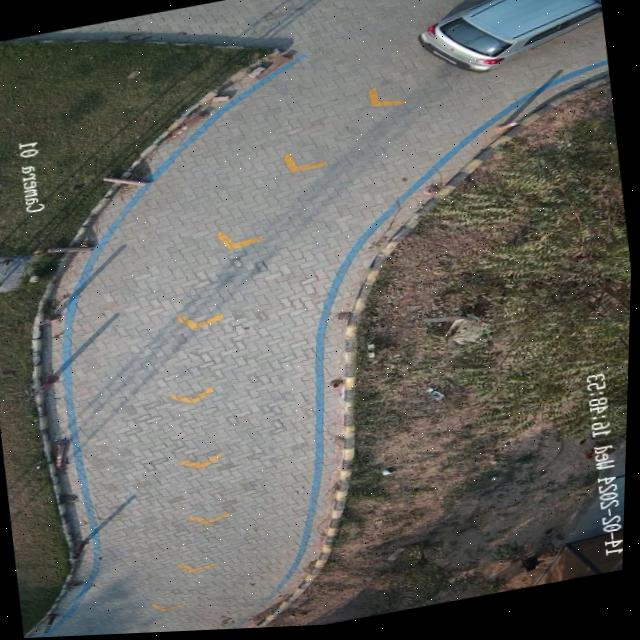car: (418, 0, 603, 77)
